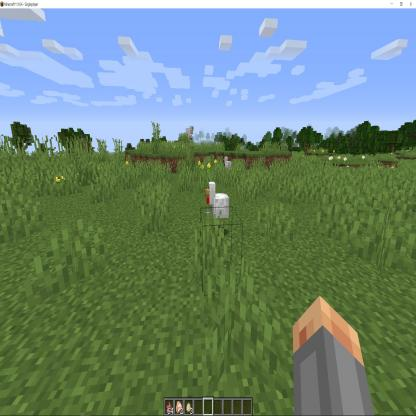minecraft-pigs: (204, 178, 233, 236), (222, 157, 234, 178)
